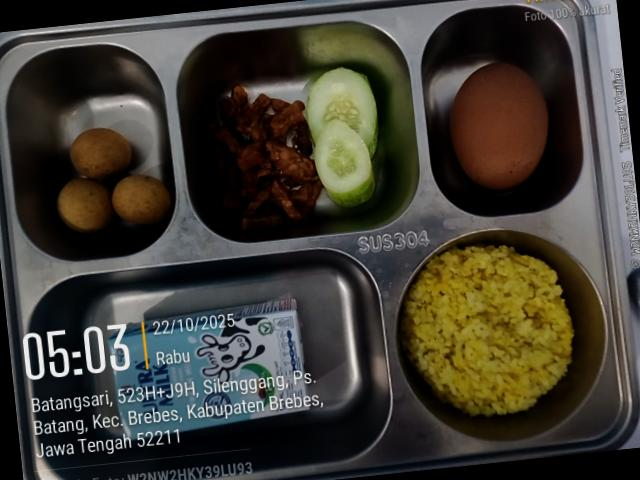buah: (56, 128, 172, 234)
nasi: (400, 245, 574, 416)
sayur: (0, 215, 123, 480), (306, 67, 378, 207)
susu: (112, 298, 319, 440)
telur: (450, 64, 548, 190)
tempe: (210, 85, 322, 230)
